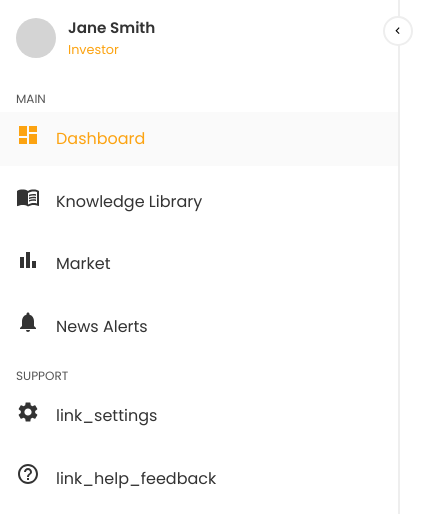
Scenario: Sidebar Component › toggle expand shows labels again
The width and height of the screenshot is (430, 531).
Click the button named "Collapse" at x=398, y=31, box [383, 16, 413, 46]
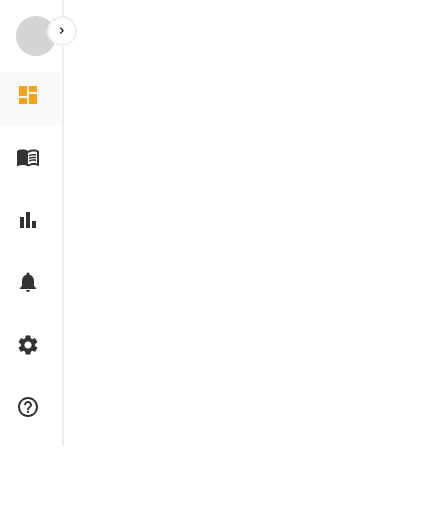
Click the button named "Collapse" at x=62, y=31, box [47, 16, 77, 46]
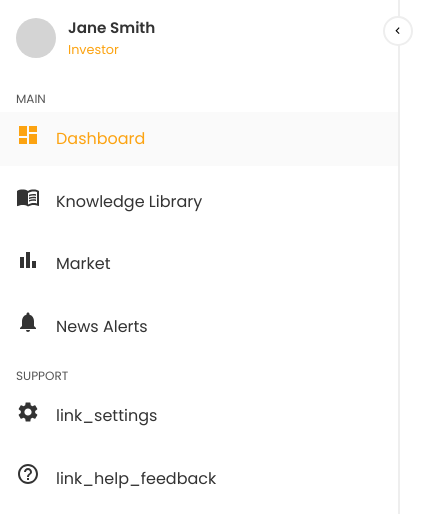
expect the text "Main" is shown: met, box [16, 90, 46, 107]
expect the text "Dashboard" is shown: met, box [56, 126, 145, 152]
